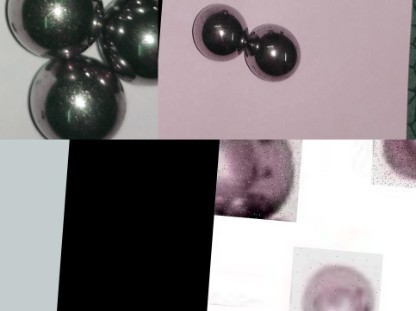ironball: (20, 51, 131, 133), (215, 139, 303, 218), (0, 0, 108, 60), (290, 243, 384, 311), (95, 0, 158, 84), (242, 21, 301, 84), (187, 1, 249, 60), (371, 139, 415, 185)
